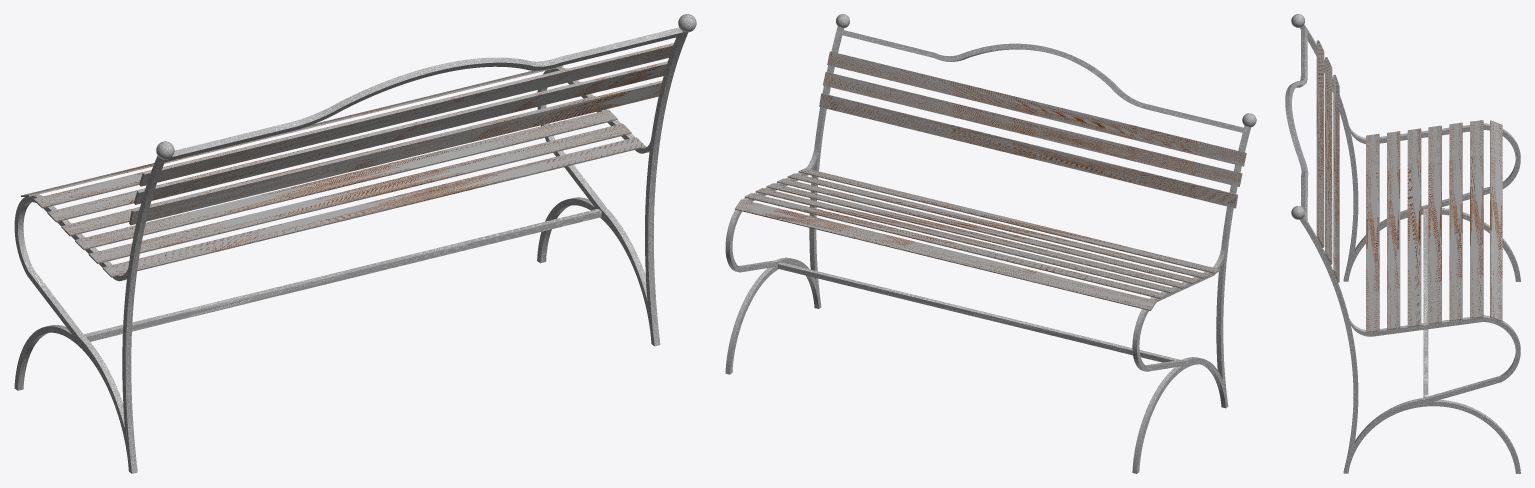
3 views of the same model, side by side, from view 1: azimuth 30°, elevation 25°; view 2: azimuth 150°, elevation 25°; view 3: azimuth 270°, elevation 25° (orthographic). The views are drawn at different scales.
Visible parts, largest first — view 1: mesh3_mesh3-geometry, mesh2_mesh2-geometry, mesh4_mesh4-geometry, mesh1_mesh1-geometry; view 2: mesh3_mesh3-geometry, mesh2_mesh2-geometry, mesh4_mesh4-geometry, mesh1_mesh1-geometry; view 3: mesh3_mesh3-geometry, mesh4_mesh4-geometry, mesh2_mesh2-geometry, mesh1_mesh1-geometry.
Boxes of the visible parts, x1=… form: mesh3_mesh3-geometry: x1=21, y1=65, x2=645, y2=277; mesh2_mesh2-geometry: x1=129, y1=43, x2=673, y2=225; mesh4_mesh4-geometry: x1=14, y1=14, x2=696, y2=473; mesh1_mesh1-geometry: x1=165, y1=27, x2=682, y2=161; mesh3_mesh3-geometry: x1=735, y1=168, x2=1221, y2=310; mesh2_mesh2-geometry: x1=819, y1=51, x2=1246, y2=208; mesh4_mesh4-geometry: x1=725, y1=14, x2=1256, y2=473; mesh1_mesh1-geometry: x1=840, y1=29, x2=1243, y2=132; mesh3_mesh3-geometry: x1=1366, y1=120, x2=1502, y2=332; mesh4_mesh4-geometry: x1=1291, y1=14, x2=1520, y2=473; mesh2_mesh2-geometry: x1=1316, y1=40, x2=1339, y2=282; mesh1_mesh1-geometry: x1=1285, y1=27, x2=1308, y2=220.
Size of the model in its own units: 0.7707 by 0.5057 by 0.3876.
